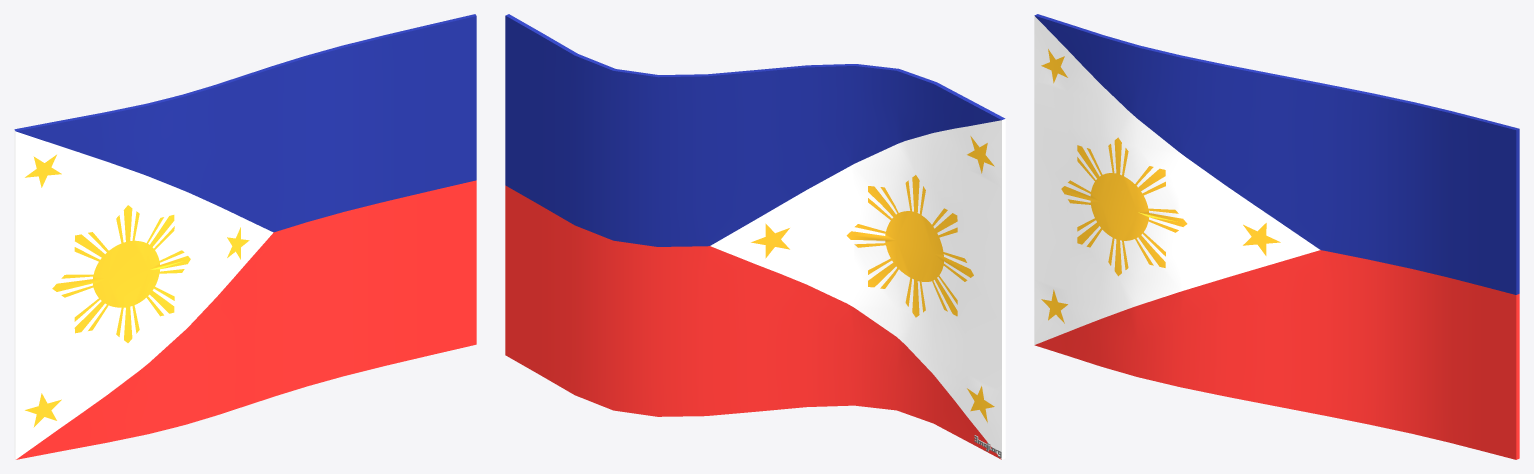
The model's file is flag_philippines.glb.
The picture shows the model from 3 angles, left to right: view 1: azimuth 30°, elevation 25°; view 2: azimuth 150°, elevation 25°; view 3: azimuth 330°, elevation 25°; orthographic projection. The views are drawn at different scales.
Visible parts, largest first — view 1: flag_philippines; view 2: flag_philippines; view 3: flag_philippines.
Boxes of the visible parts, left/top/right/bottom form: flag_philippines: left=14, top=14, right=476, bottom=459; flag_philippines: left=505, top=14, right=1005, bottom=459; flag_philippines: left=1034, top=14, right=1519, bottom=459.
Size of the model in its own units: 2.18 by 1.58 by 0.3373.
1 material, 1 textured.
